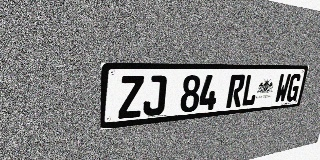4: (198, 75, 220, 111)
8: (179, 75, 202, 113)
G: (285, 74, 302, 102)
J: (143, 75, 167, 117)
L: (241, 74, 260, 107)
R: (226, 74, 246, 108)
W: (274, 74, 291, 103)
Z: (118, 76, 144, 119)
